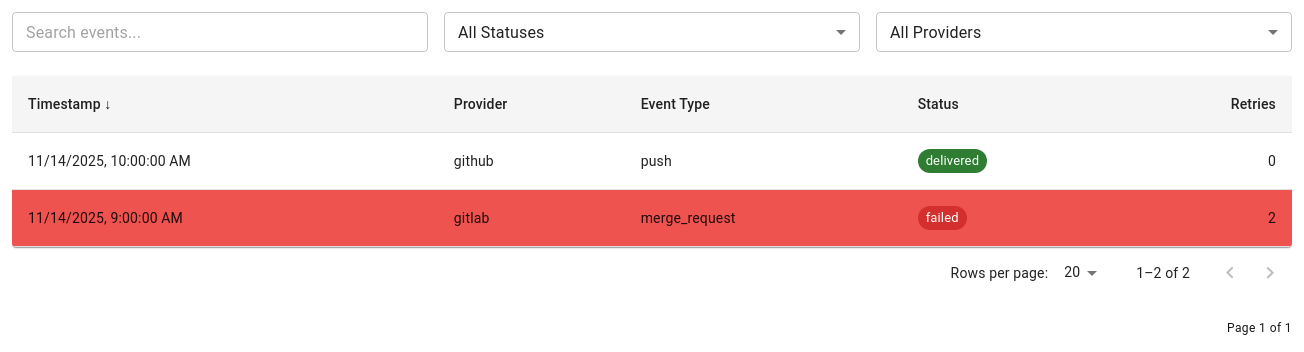
it: WebhookEventTable › should support searching events
Type "push" into the field with placeholder "Search events..." at [220, 32], box [12, 12, 428, 52]
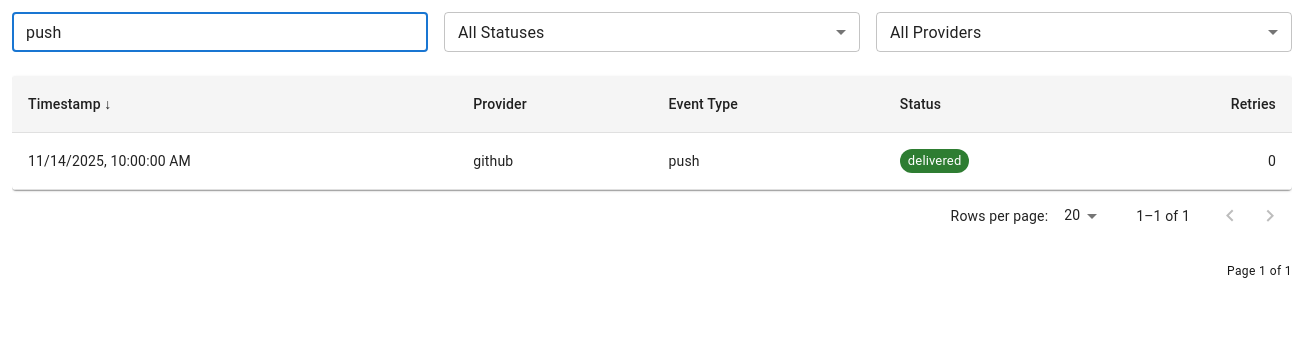
Expected: the text "push" is shown, [653, 132, 884, 190]
Expected: the text "merge_request" is gone
